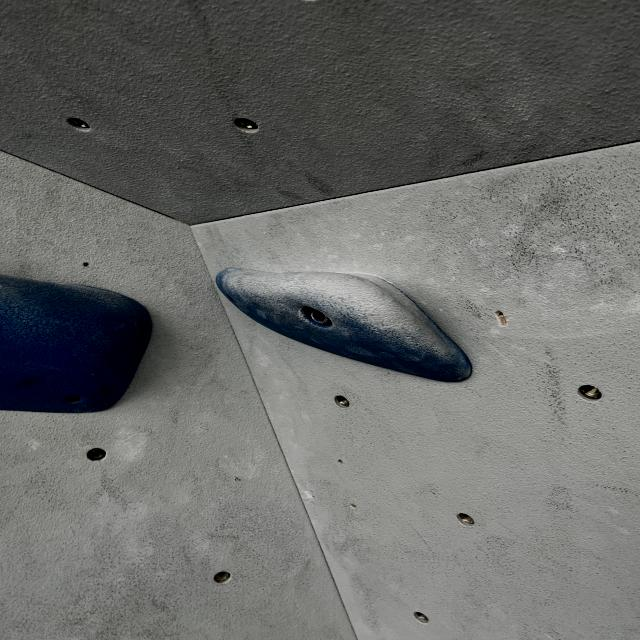hold: (209, 252, 486, 393), (0, 271, 157, 416)
